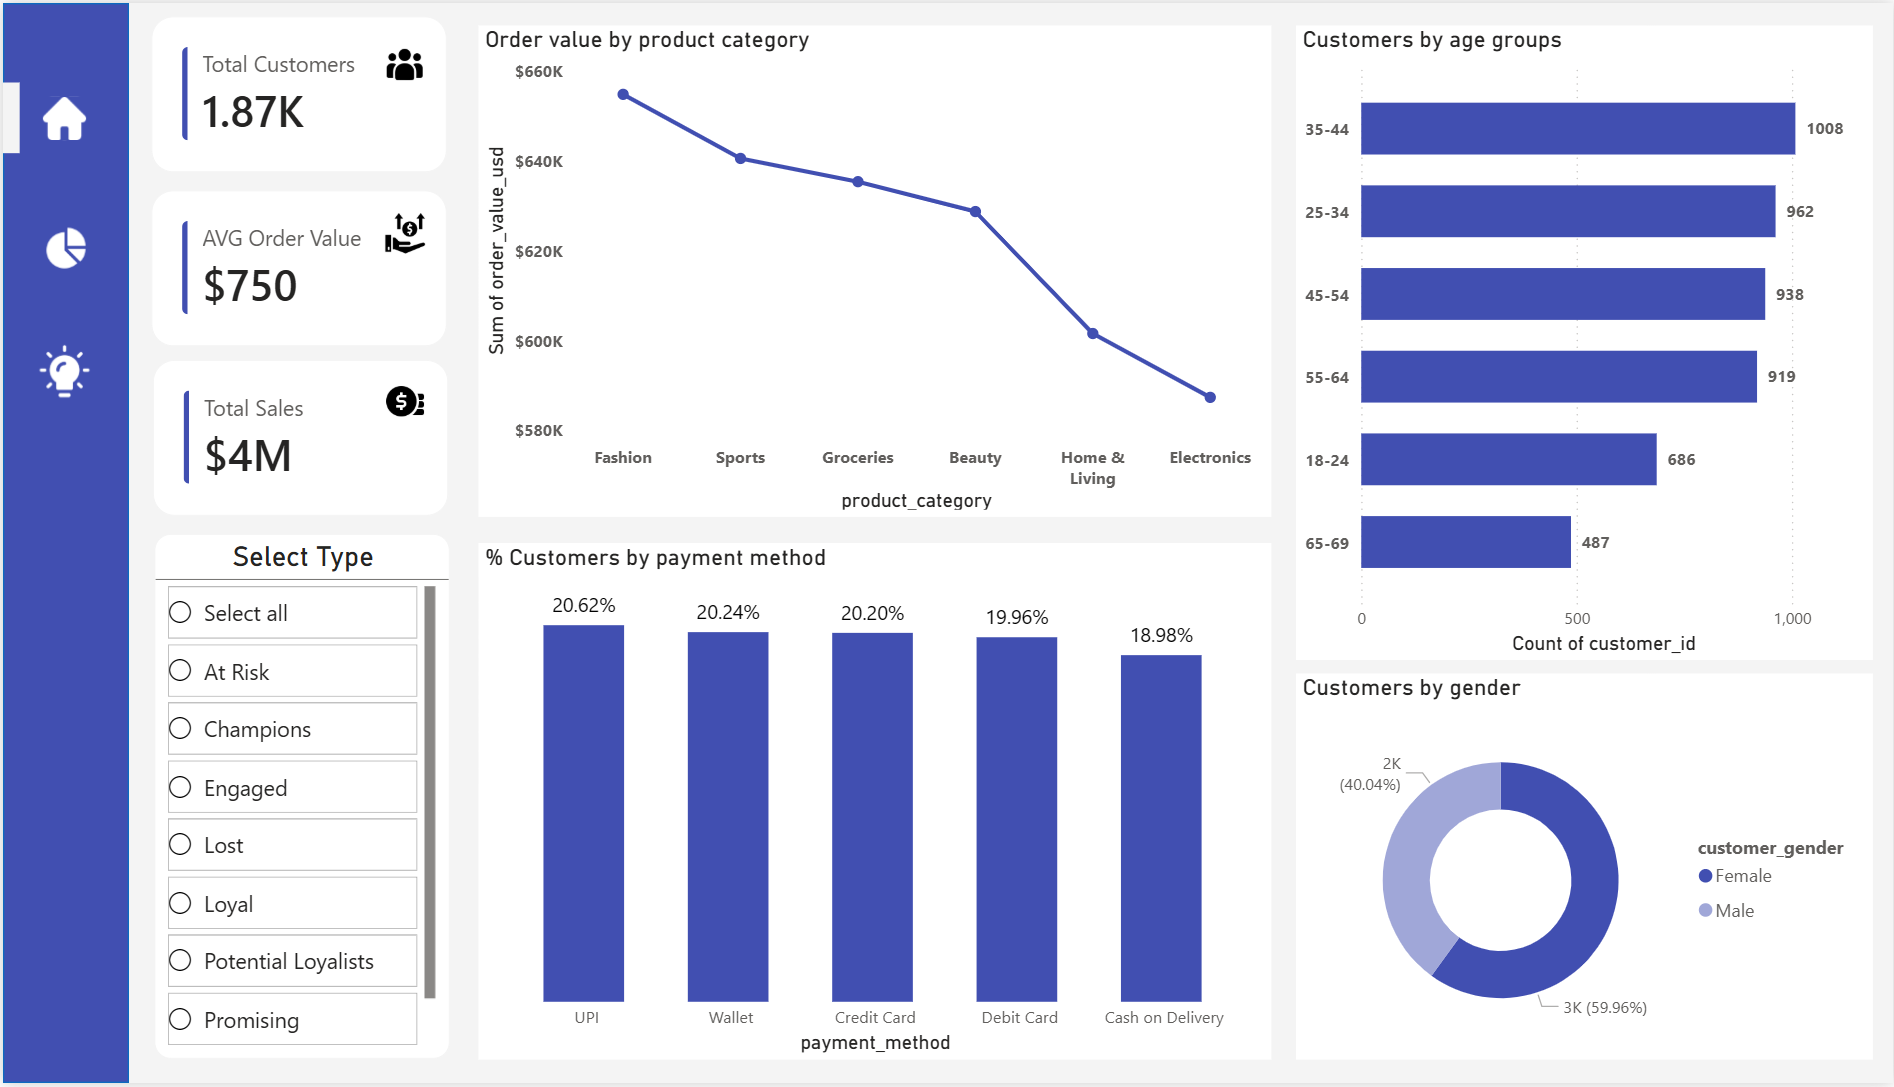

This screenshot's page, from the dashboard's own definition file:
{"tool":"powerbi","page":{"name":"Overview","canvas":[1400,800],"ordinal":0},"visuals":[{"type":"cardVisual","title":"AVG Order Value","fields":{"Data":["Avg(general_seg.order_value_usd)"]},"box":[110.5,138.7,218.8,115],"z":0},{"type":"barChart","title":"Customers by age groups","fields":{"Category":["general_seg.age_groups"],"Y":["CountNonNull(general_seg.customer_id)"]},"box":[957.5,16.2,427.5,470],"z":1000},{"type":"donutChart","title":"Customers by gender","fields":{"Category":["general_seg.customer_gender"],"Y":["CountNonNull(general_seg.customer_id)"]},"box":[957.5,496.2,427.5,286.2],"z":2000},{"type":"columnChart","title":"% Customers by payment method","fields":{"Category":["general_seg.payment_method"],"Y":["CountNonNull(general_seg.customer_id)"]},"box":[352.5,400,587.5,382.5],"z":3000},{"type":"lineChart","title":"Order value by product category","fields":{"Category":["general_seg.product_category"],"Y":["Sum(general_seg.order_value_usd)"]},"box":[352.5,16.2,587.5,363.8],"z":4000},{"type":"shape","box":[0,0,93.3,800],"z":5000},{"type":"listSlicer","title":"Select Type","fields":{"Values":["rfm_seg.rfm_seg"]},"box":[111.8,393.3,218.9,388.9],"z":6000},{"type":"cardVisual","fields":{"Data":["Count(general_seg.customer_id)"]},"box":[110.5,10,218.8,115],"z":7000},{"type":"image","box":[278.6,32.2,36.7,26.7],"z":8000},{"type":"image","box":[278.4,155.5,37.8,30],"z":9000},{"type":"cardVisual","title":"AVG Order Value","fields":{"Data":["Sum(general_seg.order_value_usd)"]},"box":[110.9,265,218.8,115],"z":10000},{"type":"image","box":[278.6,280,37.8,30],"z":11000},{"type":"actionButton","box":[26.2,156.1,40,52.5],"z":12000},{"type":"actionButton","box":[26,65.8,41,40],"z":13000},{"type":"actionButton","box":[20,237.3,51.2,70],"z":14000},{"type":"shape","box":[0,58.8,12.4,52.4],"z":15000}]}

Visuals, with their boxes on the page's 1400x800 design canvas (x1, y1, x2, y2). These are canvas units, not pixel positions in the 1894x1087 screenshot, which may show the page scaled, cropped or inside an application window:
"AVG Order Value" cardVisual: (left=110, top=139, right=329, bottom=254)
"Customers by age groups" barChart: (left=958, top=16, right=1385, bottom=486)
"Customers by gender" donutChart: (left=958, top=496, right=1385, bottom=782)
"% Customers by payment method" columnChart: (left=352, top=400, right=940, bottom=782)
"Order value by product category" lineChart: (left=352, top=16, right=940, bottom=380)
shape: (left=0, top=0, right=93, bottom=800)
"Select Type" listSlicer: (left=112, top=393, right=331, bottom=782)
cardVisual - Count(general_seg.customer_id): (left=110, top=10, right=329, bottom=125)
image: (left=279, top=32, right=315, bottom=59)
image: (left=278, top=156, right=316, bottom=186)
"AVG Order Value" cardVisual: (left=111, top=265, right=330, bottom=380)
image: (left=279, top=280, right=316, bottom=310)
actionButton: (left=26, top=156, right=66, bottom=209)
actionButton: (left=26, top=66, right=67, bottom=106)
actionButton: (left=20, top=237, right=71, bottom=307)
shape: (left=0, top=59, right=12, bottom=111)
